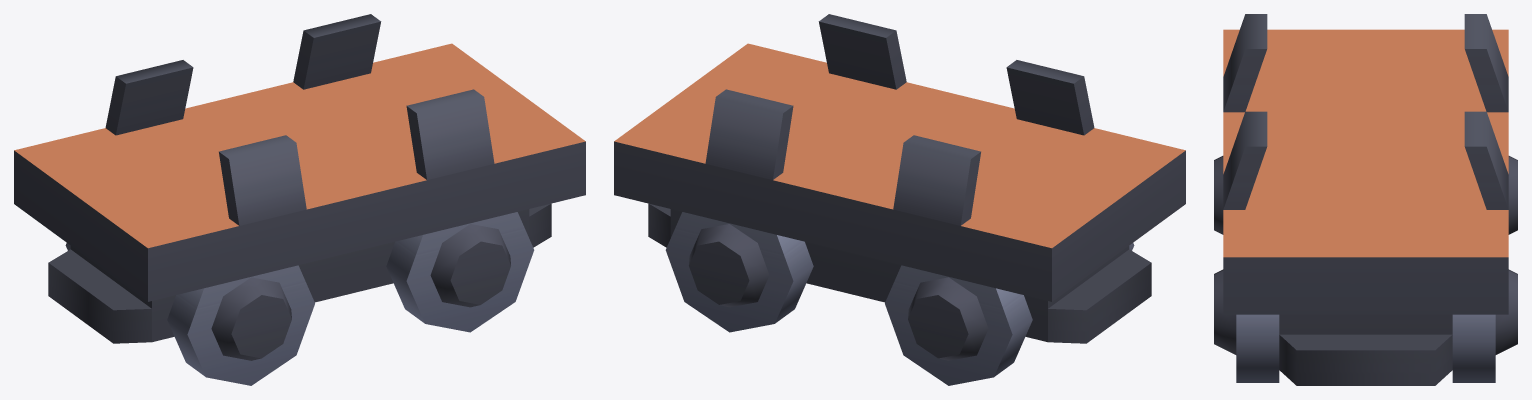
The model's file is kenney-holiday-train-wagon-flat-short.glb.
3 renders of one model, left to right at view 1: azimuth 30°, elevation 25°; view 2: azimuth 150°, elevation 25°; view 3: azimuth 270°, elevation 25°, orthographic. The views are drawn at different scales.
Visible parts, largest first — view 1: train-wagon-flat-short; view 2: train-wagon-flat-short; view 3: train-wagon-flat-short.
Part boxes in pixels (x1,y1,x2,y2): train-wagon-flat-short: (14,14,585,385); train-wagon-flat-short: (614,14,1185,385); train-wagon-flat-short: (1214,14,1517,385).
Size of the model in its own units: 0.3457 by 0.172 by 0.1949.
Materials: 1 (1 with a texture image).
